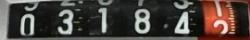digits: (133, 8, 150, 33), (57, 9, 73, 35), (173, 11, 189, 36), (20, 13, 34, 35), (98, 7, 108, 32), (213, 0, 223, 17)
